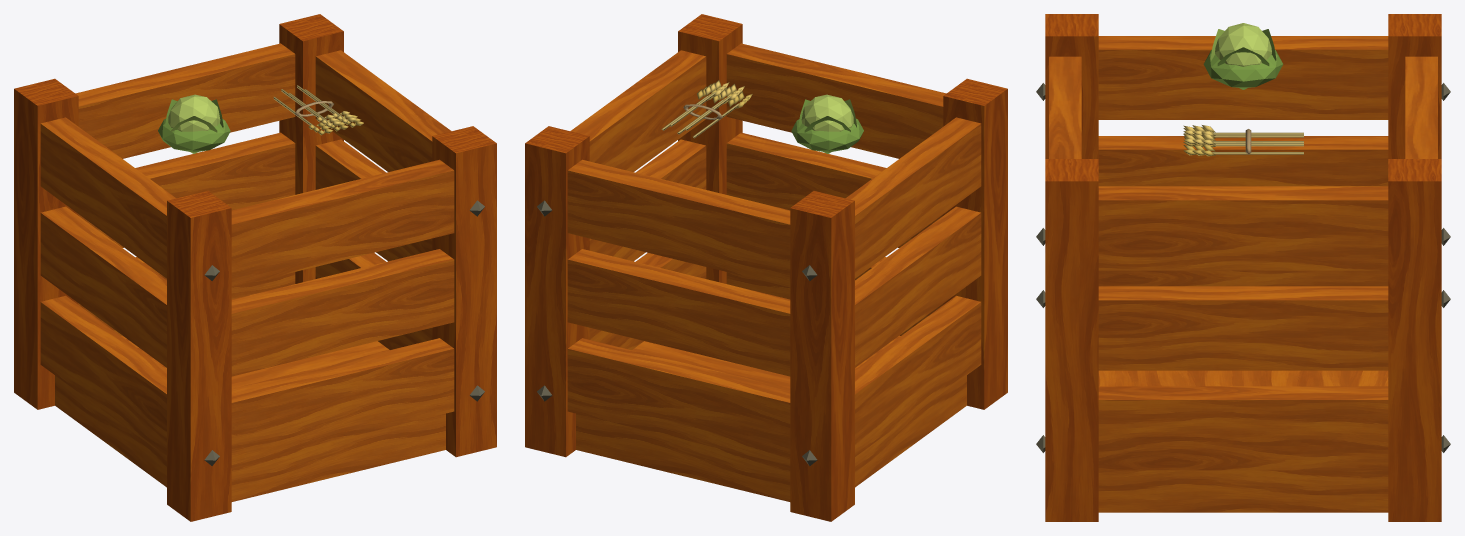
The model's file is farm-collection-box-12.gltf.
3 views of the same model, side by side, from view 1: azimuth 30°, elevation 25°; view 2: azimuth 150°, elevation 25°; view 3: azimuth 270°, elevation 25° (orthographic). The views are drawn at different scales.
Visible parts, largest first — view 1: farm-collection-box-12; view 2: farm-collection-box-12; view 3: farm-collection-box-12.
Part boxes in pixels (x1,y1,x2,y2): farm-collection-box-12: (14,14,496,521); farm-collection-box-12: (525,14,1007,521); farm-collection-box-12: (1036,14,1450,521).
Size of the model in its own units: 0.8002 by 0.8448 by 0.8382.
2 materials, 1 textured.
